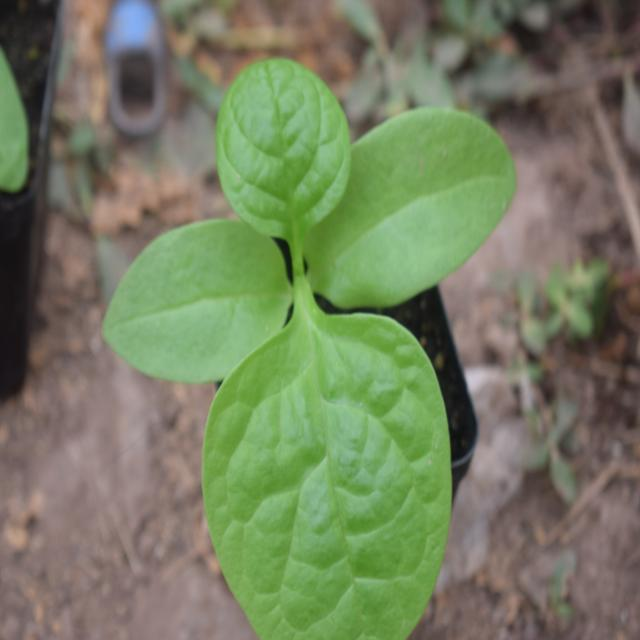Ceylon spinach: (152, 55, 490, 626)
